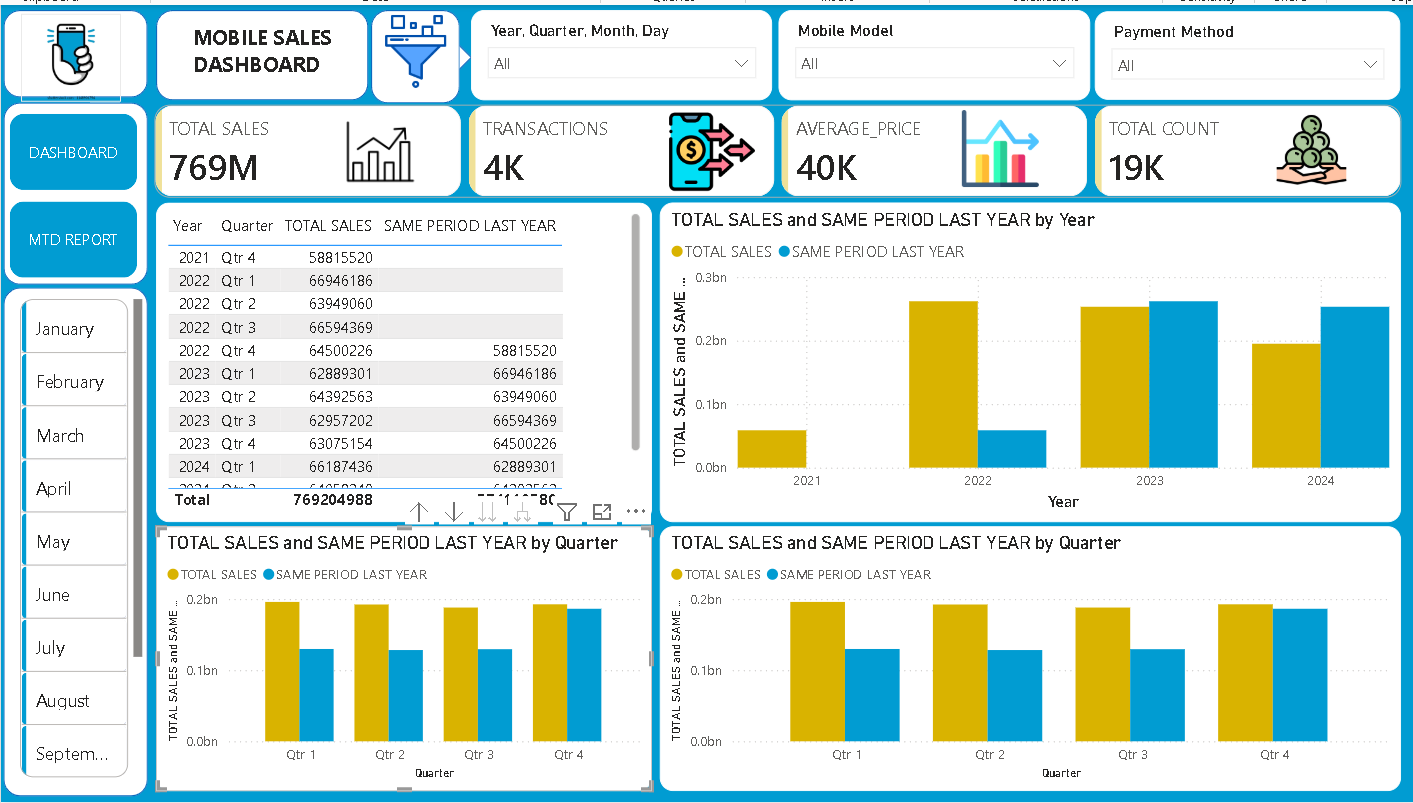

Layout of this report page (visuals, bound fields, positions):
{"tool":"powerbi","page":{"name":"DASHBOARD","canvas":[1280,720],"ordinal":0},"visuals":[{"type":"shape","box":[340.1,17.7,85.7,58.5],"z":0},{"type":"shape","box":[2.3,4.7,130.2,79.1],"z":1000},{"type":"image","box":[17.8,8.2,90.6,78.2],"z":2000},{"type":"shape","box":[2.7,87.8,130.4,164.7],"z":3000},{"type":"shape","box":[2.7,255.2,130.4,459.7],"z":4000},{"type":"cardVisual","title":"dcvvx","fields":{"Data":["Mobile_sales_data.total sales","Mobile_sales_data.transactions","Mobile_sales_data.Average_price","Mobile_sales_data.TOTAL COUNT"]},"box":[123.8,76.2,1156.5,112.9],"z":5000,"group":"g1"},{"type":"advancedSlicerVisual","fields":{"Values":["custom_calender.Column1.Variation.Date Hierarchy.Month"]},"box":[12.3,260.7,120.8,448.7],"z":5000},{"type":"group","id":"g1","title":"Group 2","box":[123.8,76.2,1156.5,112.9],"z":6000},{"type":"slicer","fields":{"Values":["Mobile_sales_data.Mobile Model"]},"box":[702,4.1,281.6,81.6],"z":7000},{"type":"image","box":[823,95.8,159.1,69.8],"z":7000,"group":"g2"},{"type":"slicer","fields":{"Values":["Mobile_sales_data.Brand"]},"box":[424.5,4.1,272.1,81.6],"z":8000},{"type":"slicer","fields":{"Values":["Mobile_sales_data.Payment Method"]},"box":[989.1,5.4,276.2,80.3],"z":9000},{"type":"shape","box":[334.7,4.1,80.3,84.4],"z":10000},{"type":"image","box":[280.7,94.5,123.1,77.4],"z":10000,"group":"g2"},{"type":"image","box":[1119,98.3,130,67.2],"z":10500,"group":"g2"},{"type":"image","box":[334.7,8.2,80.3,68],"z":11000},{"type":"image","box":[587.8,94.5,107.9,77.4],"z":11000,"group":"g2"},{"type":"group","id":"g2","title":"Group 1","box":[280.7,94.5,968.3,77.4],"z":11001,"group":"g1"},{"type":"shape","box":[140.1,4.1,191.8,81.6],"z":12000},{"type":"textbox","box":[168.7,10.9,140.1,65.3],"z":13000},{"type":"map","title":"TOTAL SALES BY CITY","fields":{"Category":["Mobile_sales_data.City"],"Size":["Mobile_sales_data.TOTAL SALES"]},"box":[140.1,178.2,310.2,317],"z":14000},{"type":"lineChart","title":"TOTAL COUNT BY MONTH","fields":{"Category":["custom_calender.Column1.Variation.Date Hierarchy.Month"],"Y":["Mobile_sales_data.TOTAL COUNT"]},"box":[457.1,178.2,808.2,197.3],"z":15000},{"type":"funnel","title":"Customer Ratings by Rating_Status","fields":{"Category":["Mobile_sales_data.Rating_status"],"Y":["CountNonNull(Mobile_sales_data.Customer Ratings)"]},"box":[457.1,381,387.8,170.1],"z":16000},{"type":"pieChart","fields":{"Category":["Mobile_sales_data.Payment Method"],"Y":["Mobile_sales_data.TRANSACTIONS"]},"box":[850.3,381.6,412.8,169.8],"z":17000},{"type":"clusteredBarChart","fields":{"Category":["Mobile_sales_data.Mobile Model"],"Y":["Mobile_sales_data.TOTAL SALES"]},"box":[457.1,555.1,386.4,159.2],"z":18000},{"type":"areaChart","fields":{"Category":["custom_calender.Day Name"],"Y":["Mobile_sales_data.TOTAL SALES"]},"box":[850.3,555.1,415,159.2],"z":19000},{"type":"tableEx","fields":{"Values":["Mobile_sales_data.Brand","Mobile_sales_data.TOTAL SALES","Mobile_sales_data.TRANSACTIONS"]},"box":[140.1,500.7,310.2,213.6],"z":20000},{"type":"pageNavigator","box":[8.2,98,115.6,148.3],"z":21000}]}

Visuals, with their boxes on the page's 1280x720 design canvas (x1, y1, x2, y2). These are canvas units, not pixel positions in the 1413x803 screenshot, which may show the page scaled, cropped or inside an application window:
shape: (x1=340, y1=18, x2=426, y2=76)
shape: (x1=2, y1=5, x2=132, y2=84)
image: (x1=18, y1=8, x2=108, y2=86)
shape: (x1=3, y1=88, x2=133, y2=252)
shape: (x1=3, y1=255, x2=133, y2=715)
"dcvvx" cardVisual: (x1=124, y1=76, x2=1280, y2=189)
advancedSlicerVisual - custom_calender.Column1.Variation.Date Hierarchy.Month: (x1=12, y1=261, x2=133, y2=709)
"Group 2" group: (x1=124, y1=76, x2=1280, y2=189)
slicer - Mobile_sales_data.Mobile Model: (x1=702, y1=4, x2=984, y2=86)
image: (x1=823, y1=96, x2=982, y2=166)
slicer - Mobile_sales_data.Brand: (x1=424, y1=4, x2=697, y2=86)
slicer - Mobile_sales_data.Payment Method: (x1=989, y1=5, x2=1265, y2=86)
shape: (x1=335, y1=4, x2=415, y2=88)
image: (x1=281, y1=94, x2=404, y2=172)
image: (x1=1119, y1=98, x2=1249, y2=166)
image: (x1=335, y1=8, x2=415, y2=76)
image: (x1=588, y1=94, x2=696, y2=172)
"Group 1" group: (x1=281, y1=94, x2=1249, y2=172)
shape: (x1=140, y1=4, x2=332, y2=86)
textbox: (x1=169, y1=11, x2=309, y2=76)
"TOTAL SALES BY CITY" map: (x1=140, y1=178, x2=450, y2=495)
"TOTAL COUNT BY MONTH" lineChart: (x1=457, y1=178, x2=1265, y2=376)
"Customer Ratings by Rating_Status" funnel: (x1=457, y1=381, x2=845, y2=551)
pieChart - Mobile_sales_data.Payment Method x Mobile_sales_data.TRANSACTIONS: (x1=850, y1=382, x2=1263, y2=551)
clusteredBarChart - Mobile_sales_data.Mobile Model x Mobile_sales_data.TOTAL SALES: (x1=457, y1=555, x2=844, y2=714)
areaChart - custom_calender.Day Name x Mobile_sales_data.TOTAL SALES: (x1=850, y1=555, x2=1265, y2=714)
tableEx - Mobile_sales_data.Brand x Mobile_sales_data.TOTAL SALES: (x1=140, y1=501, x2=450, y2=714)
pageNavigator: (x1=8, y1=98, x2=124, y2=246)
